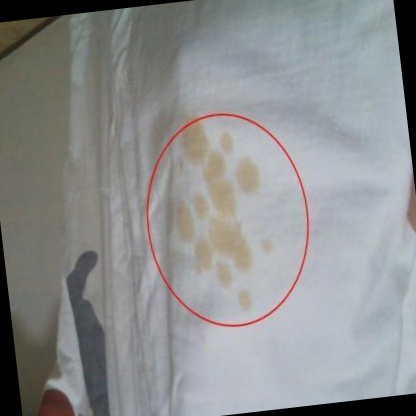coffee: (211, 218, 255, 273), (212, 183, 234, 215), (182, 129, 207, 155), (238, 160, 257, 191), (194, 242, 212, 273), (178, 206, 193, 239), (206, 155, 223, 180), (219, 265, 229, 283), (242, 293, 250, 310), (221, 135, 230, 150), (197, 199, 205, 215)
